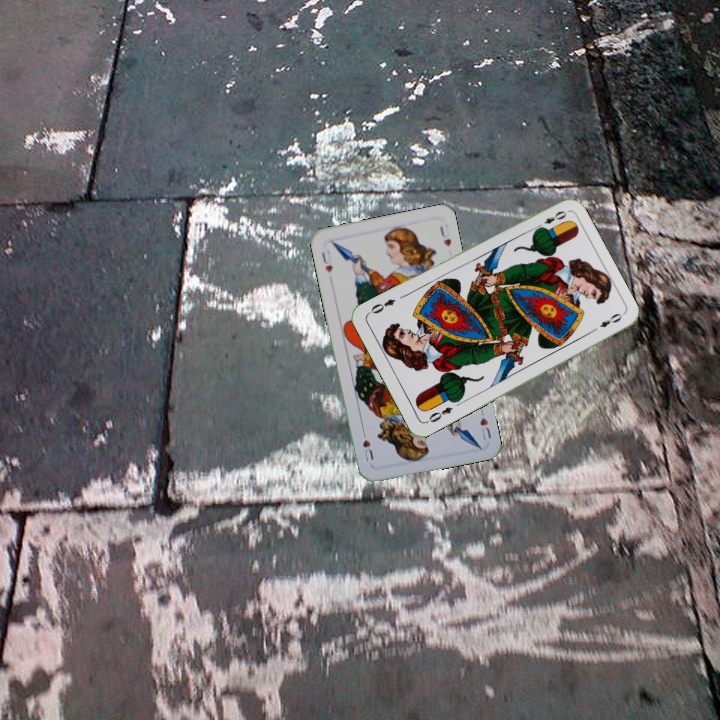EO: (532, 206, 569, 233), (422, 403, 455, 426)
HU: (475, 403, 494, 443), (318, 246, 335, 276)
